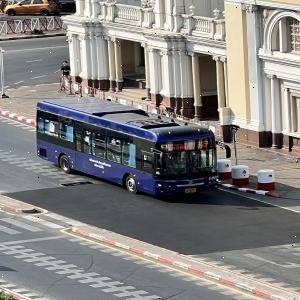Bus Line Number: (196, 139, 210, 149)
Bus Side Number: (206, 176, 220, 180)
Destination Sign: (166, 142, 194, 151)
TSB-Bus: (35, 97, 219, 198)
